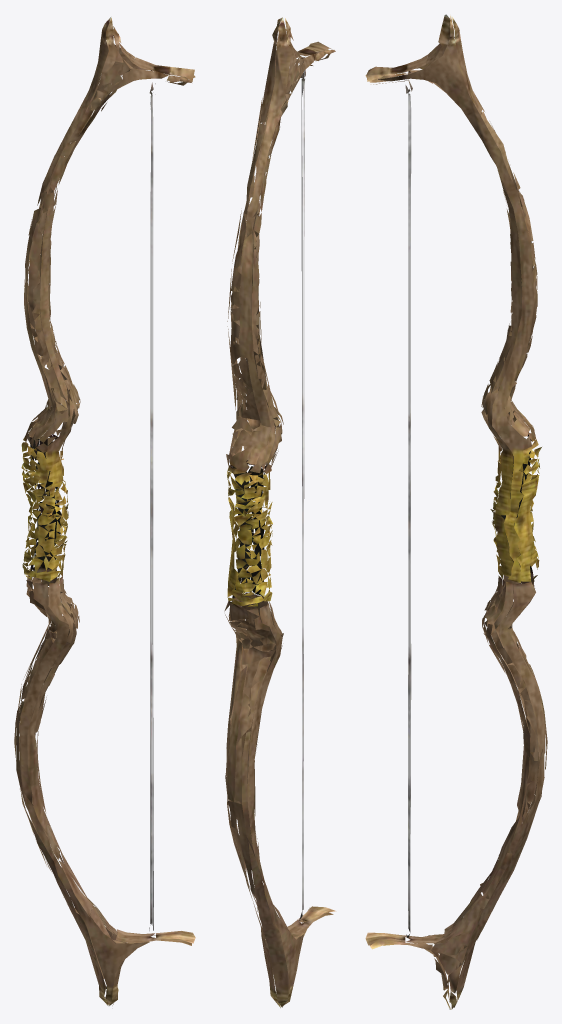
File: bow-v1.glb
The picture shows the model from 3 angles, left to right: view 1: azimuth 90°, elevation 25°; view 2: azimuth 150°, elevation 25°; view 3: azimuth 270°, elevation 25°; orthographic projection.
Visible parts, largest first — view 1: WeaponDrawn; view 2: WeaponDrawn; view 3: WeaponDrawn.
Boxes of the visible parts, bbox=[...] form: WeaponDrawn: bbox=[14, 17, 195, 1005]; WeaponDrawn: bbox=[224, 17, 336, 1007]; WeaponDrawn: bbox=[365, 14, 547, 1009].
Bounding box in the file's own units: 0.0737 × 1.5 × 0.2478.
Materials: 1 (1 with a texture image).
